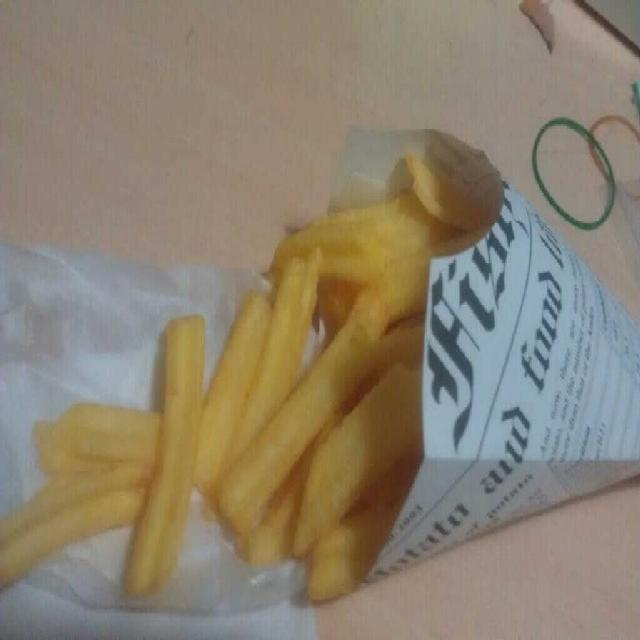French Fries: (0, 83, 423, 564)
